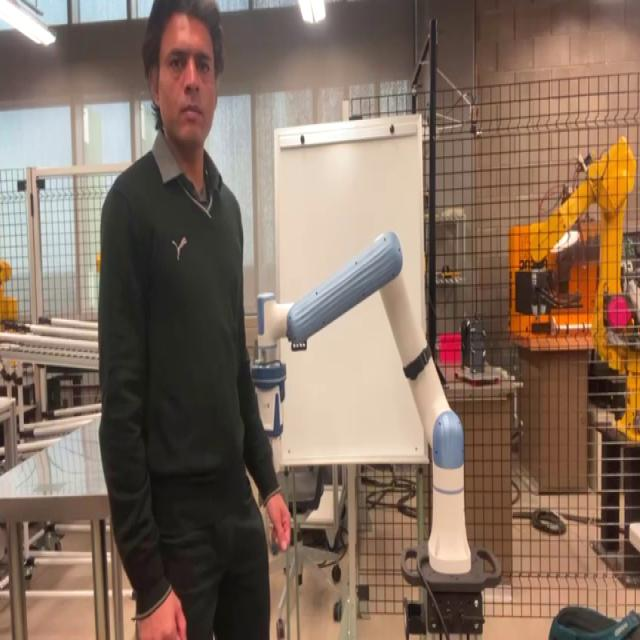robot: (250, 228, 502, 637)
